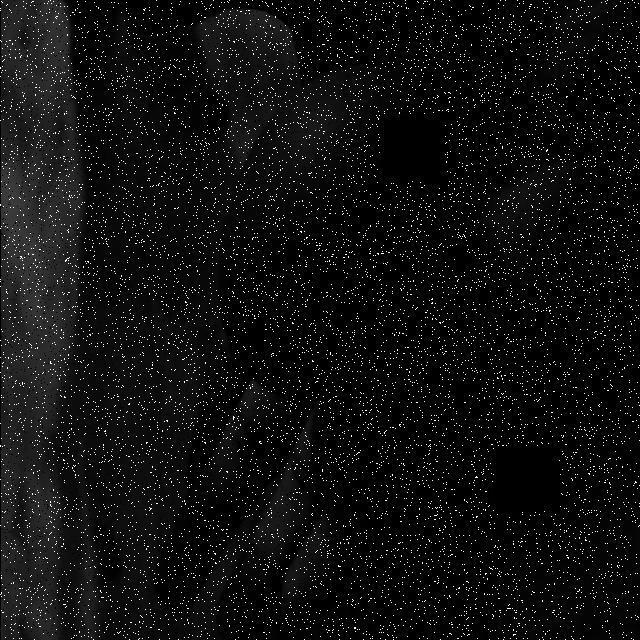egg: (215, 61, 468, 405)
